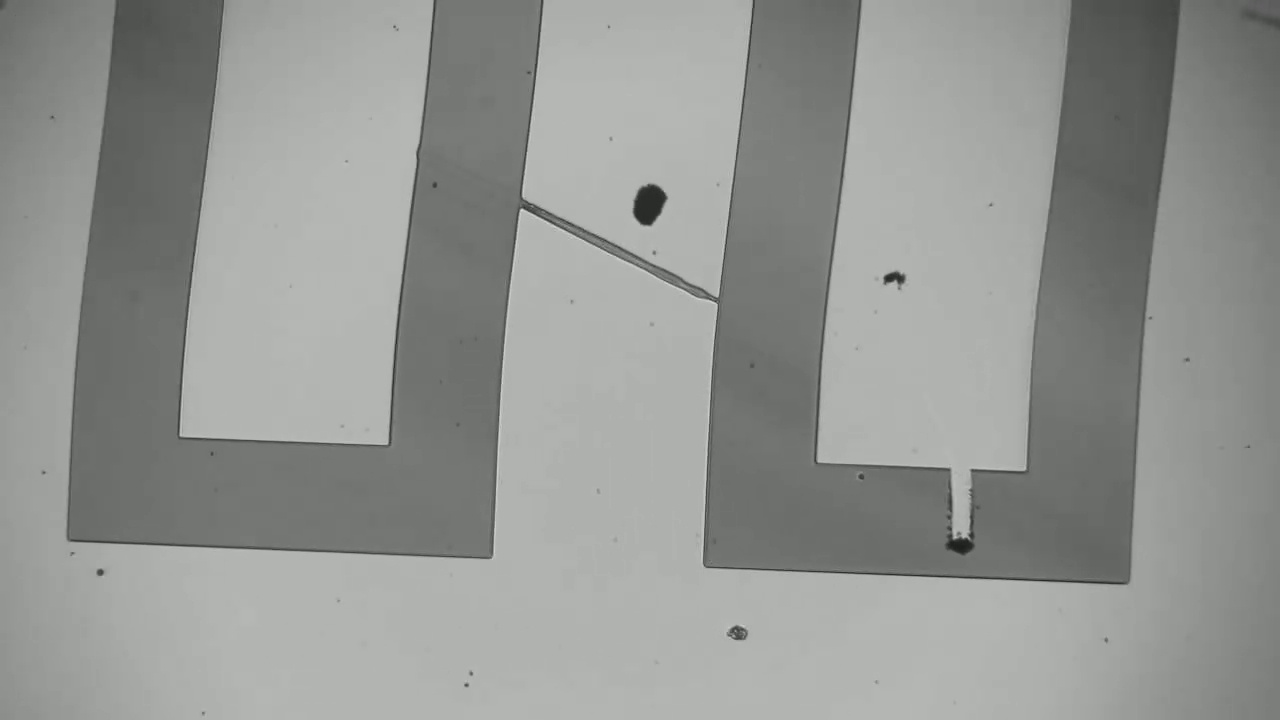Short_circuit: (911, 443, 994, 602)
